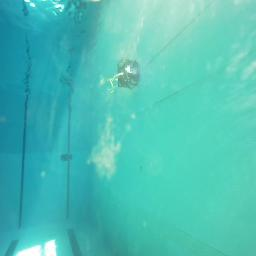Full: (61, 153, 72, 162)
front: (118, 69, 138, 88)
